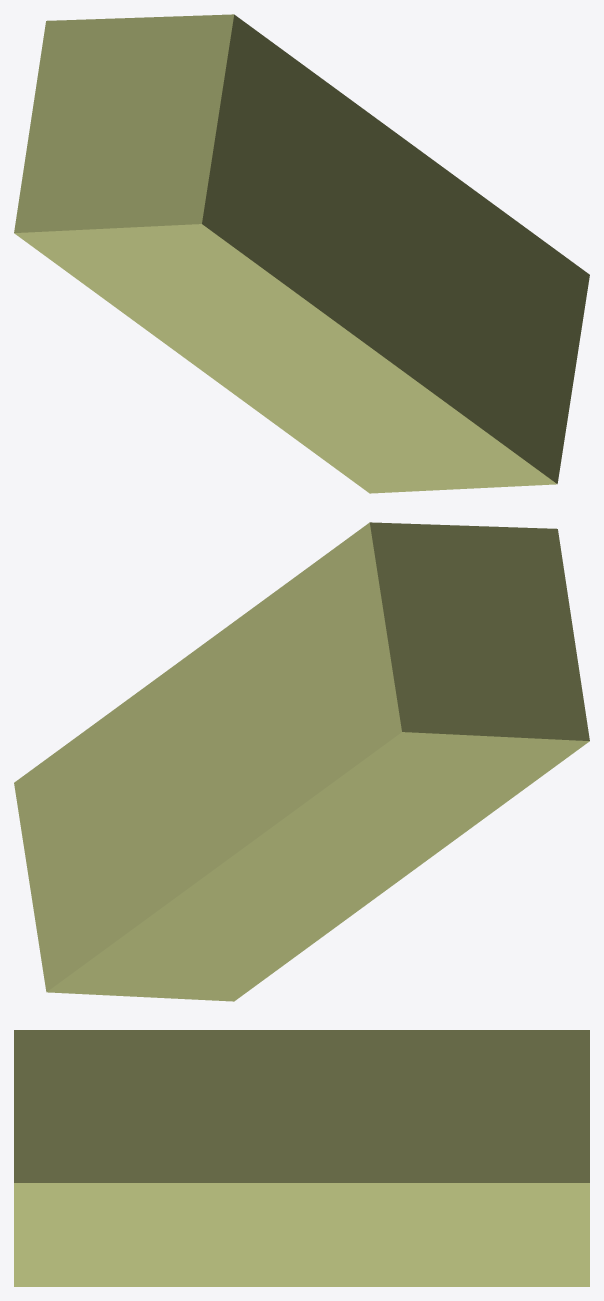
3 renders of one model, top to bottom at view 1: azimuth 30°, elevation 25°; view 2: azimuth 150°, elevation 25°; view 3: azimuth 270°, elevation 25°, orthographic. The views are drawn at different scales.
Visible parts, largest first — view 1: 0_1_2_0_3_3_2_0_1_1_3_0_3; view 2: 0_1_2_0_3_3_2_0_1_1_3_0_3; view 3: 0_1_2_0_3_3_2_0_1_1_3_0_3.
Boxes of the visible parts, bbox=[...] form: 0_1_2_0_3_3_2_0_1_1_3_0_3: bbox=[14, 14, 589, 493]; 0_1_2_0_3_3_2_0_1_1_3_0_3: bbox=[14, 522, 589, 1001]; 0_1_2_0_3_3_2_0_1_1_3_0_3: bbox=[14, 1030, 589, 1286].
Bounding box in the file's own units: 2.15 × 2.24 × 6.
